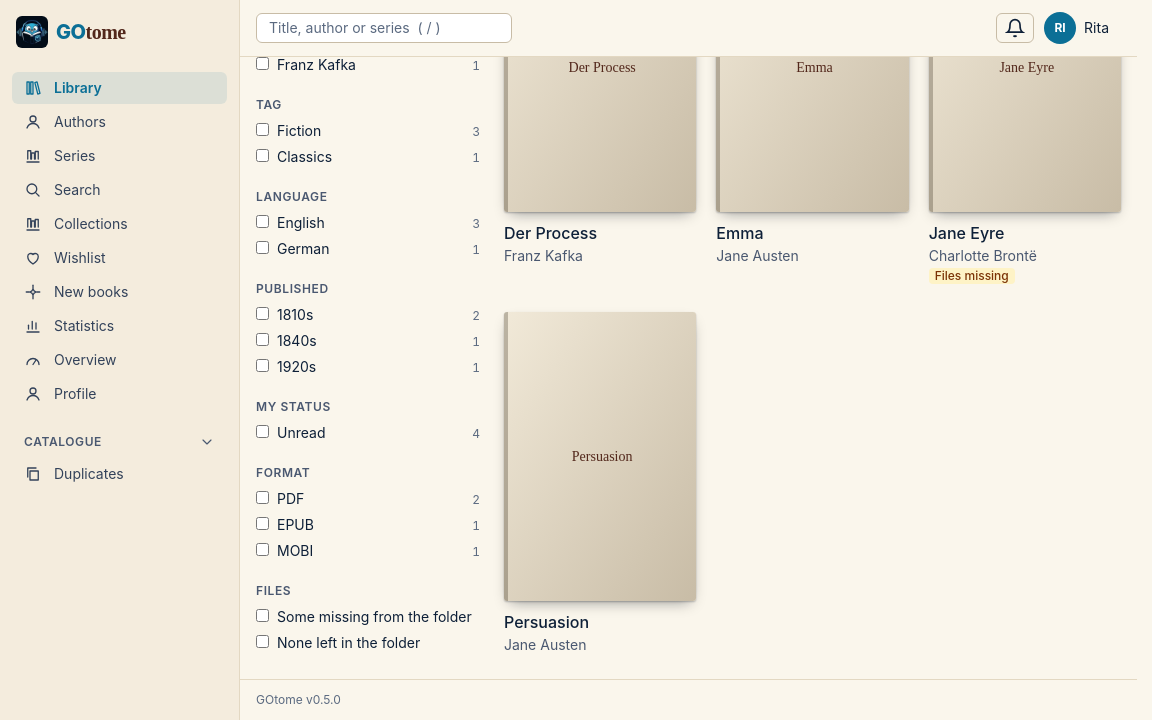
Test: filters › finds the books with files missing from the folder, and marks those with none left
(page scrolled)
Expected: the checkbox named "None left in the folder (1)" is shown, [256,635,269,648]
Click the checkbox named "Some missing from the folder (2)".
click(262, 616)  # box [256,609,269,622]
(page scrolled)
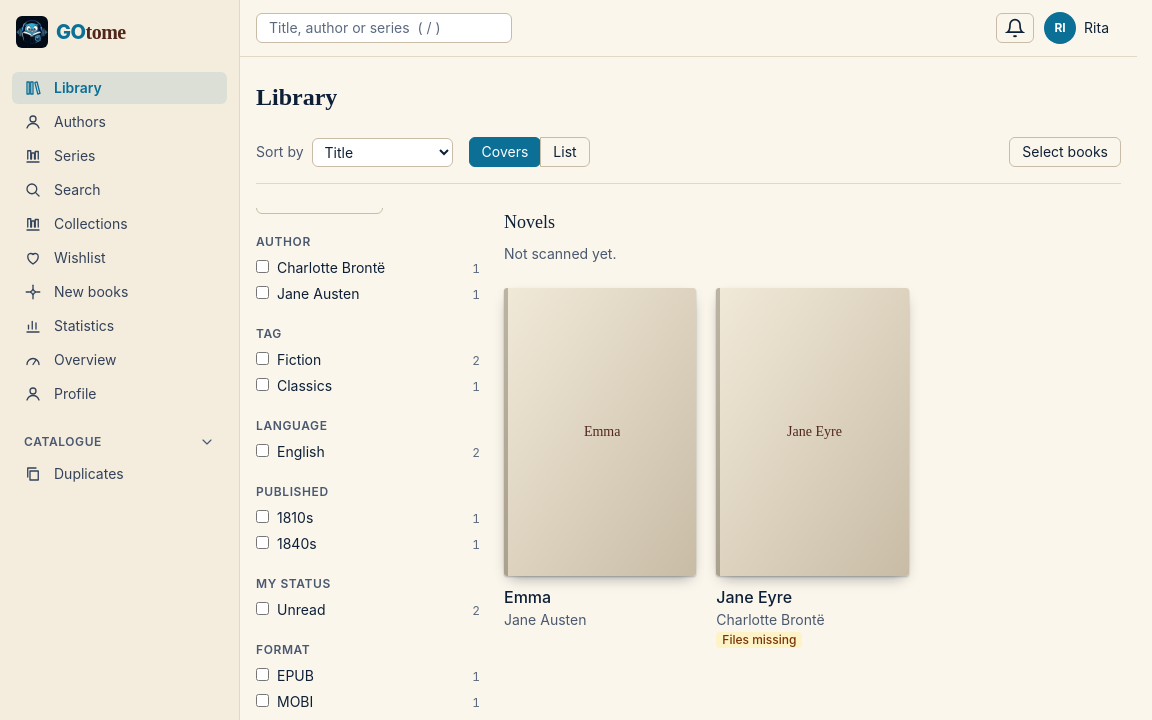
Expected: the text "Files missing" is shown once, [716,632,802,648]
Expected: the list item "Files missing" shows "Jane Eyre", [716,288,909,608]
Click the button "List".
click(565, 152)  # box [540,137,590,167]
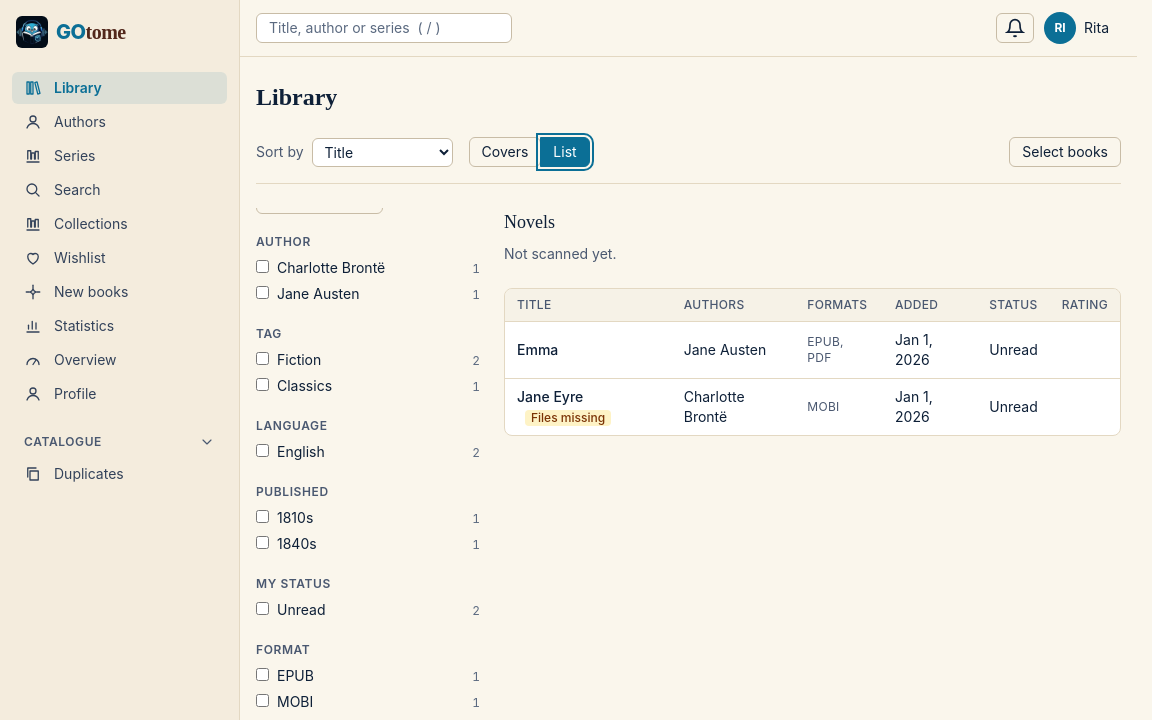
Expected: the row "Emma" does not show "Files missing", [505,322,1120,378]
Result: the row "Jane Eyre" shows "Files missing" at [531,410,605,425]
